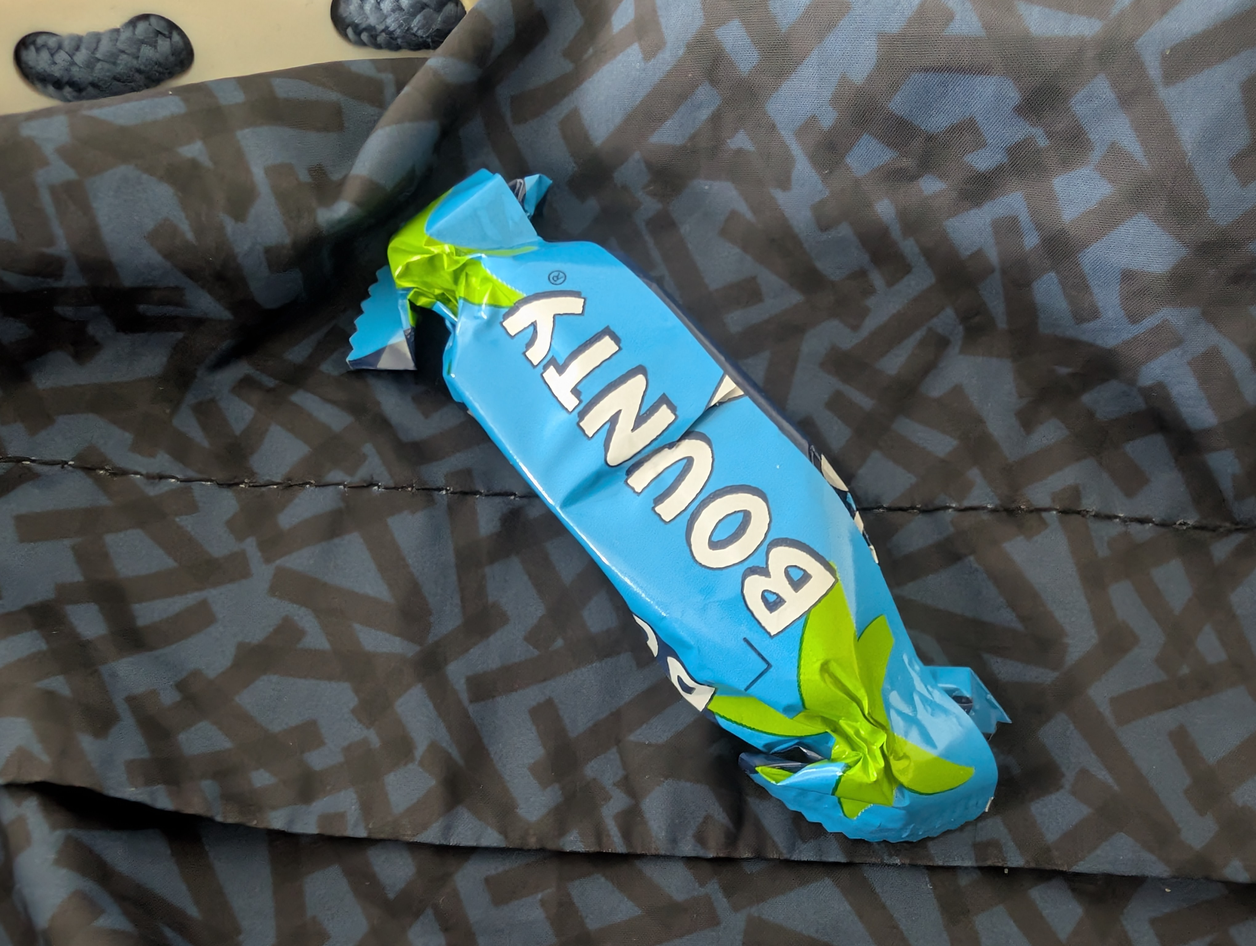Bounty: (356, 174, 1004, 842)
